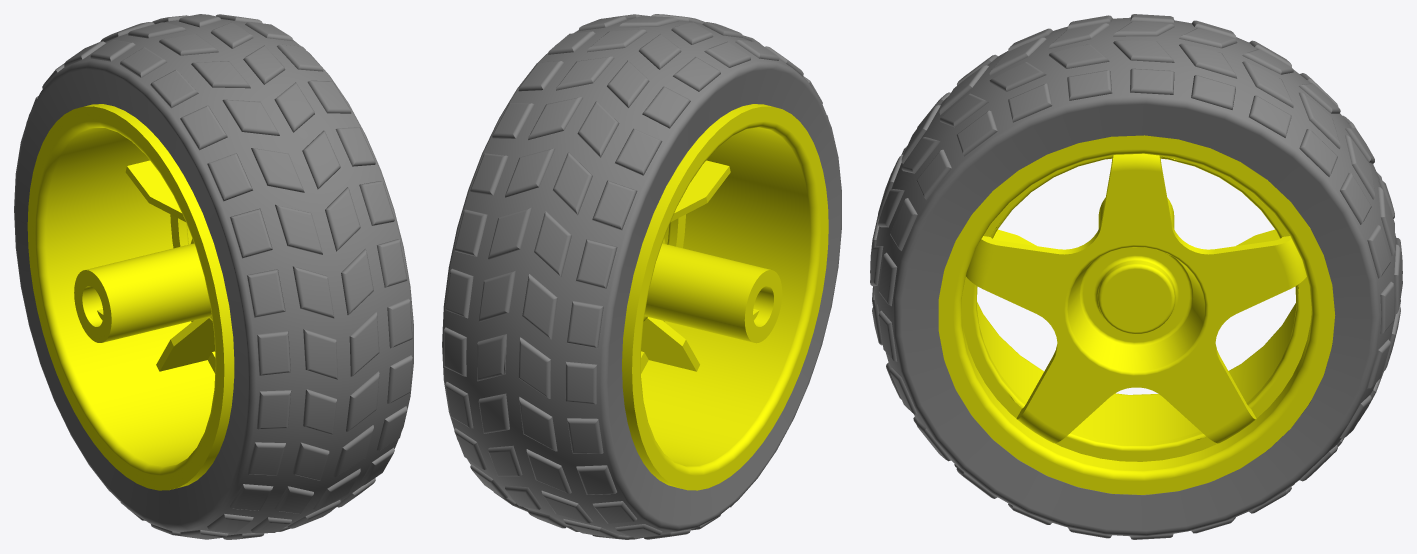
File: tt-wheel.glb
The picture shows the model from 3 angles, left to right: view 1: azimuth 30°, elevation 25°; view 2: azimuth 150°, elevation 25°; view 3: azimuth 270°, elevation 25°; orthographic projection.
Visible parts, largest first — view 1: Mesh.004, Mesh.005; view 2: Mesh.004, Mesh.005; view 3: Mesh.004, Mesh.005.
Boxes of the visible parts, x1,y1,x2,y2 form: Mesh.004: (14, 14, 413, 539); Mesh.005: (27, 104, 234, 490); Mesh.004: (442, 14, 841, 539); Mesh.005: (622, 104, 828, 490); Mesh.004: (870, 14, 1402, 539); Mesh.005: (938, 135, 1335, 494).
Bounding box in the file's own units: 0.0307 × 0.0689 × 0.0689.
